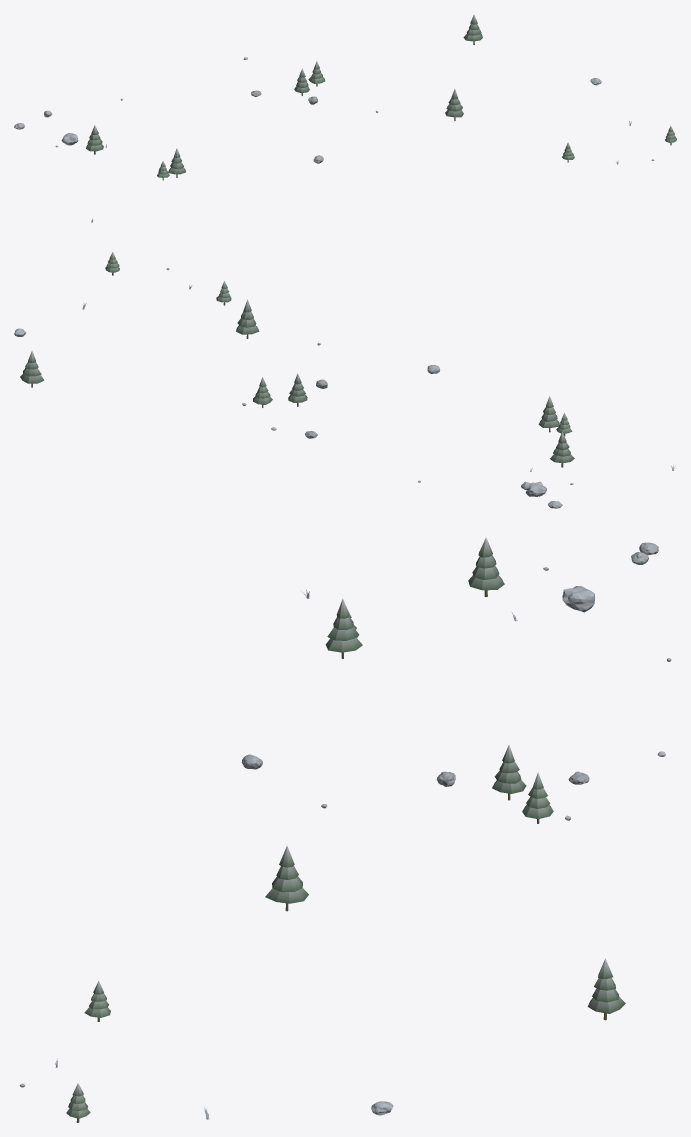
File: frost_land_scatter_c20_10.glb
The picture shows the model from 3 angles, top to bottom: view 1: azimuth 30°, elevation 25°; view 2: azimuth 150°, elevation 25°; view 3: azimuth 270°, elevation 25°; orthographic projection. The views are drawn at different scales.
Visible parts, largest first — view 1: frost_land_scatter_c20_10; view 2: frost_land_scatter_c20_10; view 3: frost_land_scatter_c20_10.
Boxes of the visible parts, left/top/right/bottom form: frost_land_scatter_c20_10: left=14, top=14, right=676, bottom=222; frost_land_scatter_c20_10: left=14, top=252, right=675, bottom=508; frost_land_scatter_c20_10: left=19, top=537, right=671, bottom=1122.
Bounding box in the file's own units: 241 × 27.94 × 129.
